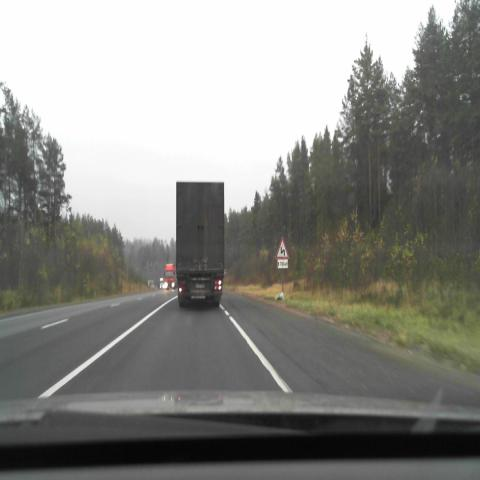1_12_2: (275, 236, 289, 259)
